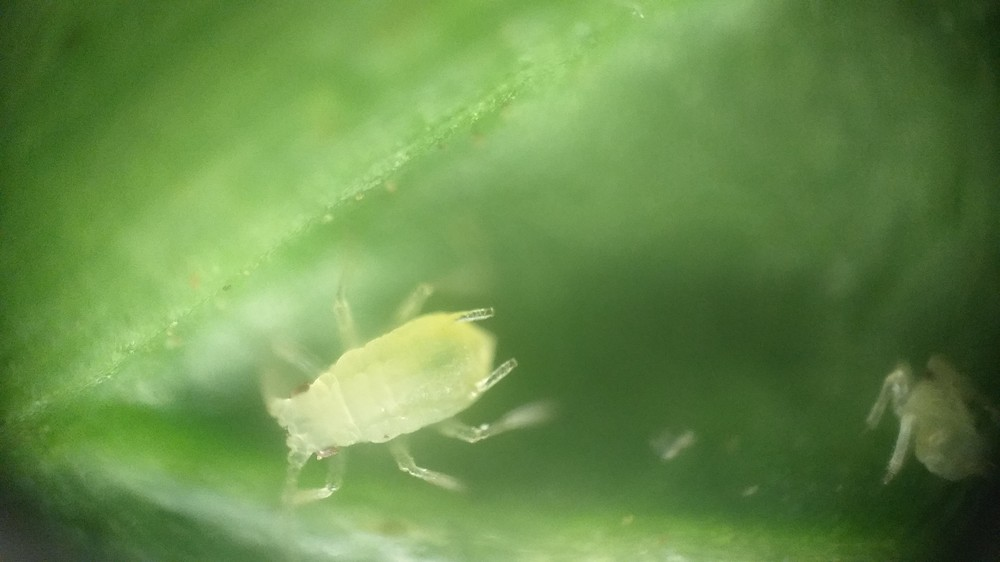Pulgon: (205, 250, 603, 526), (848, 329, 1000, 506)
